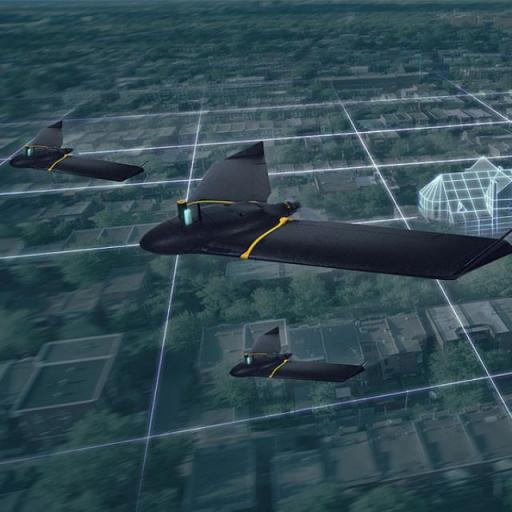uav: (6, 120, 145, 182)
